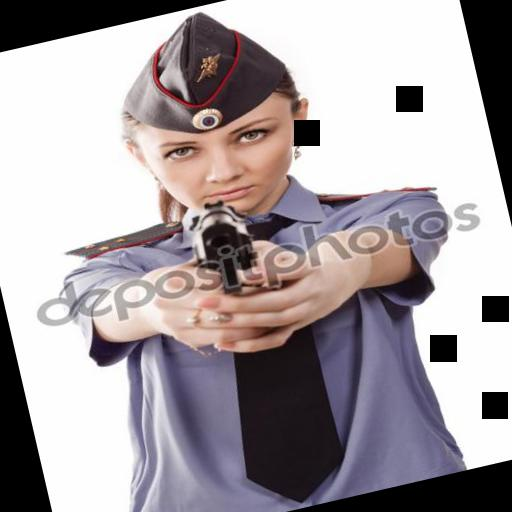Handgun: (165, 191, 270, 305)
